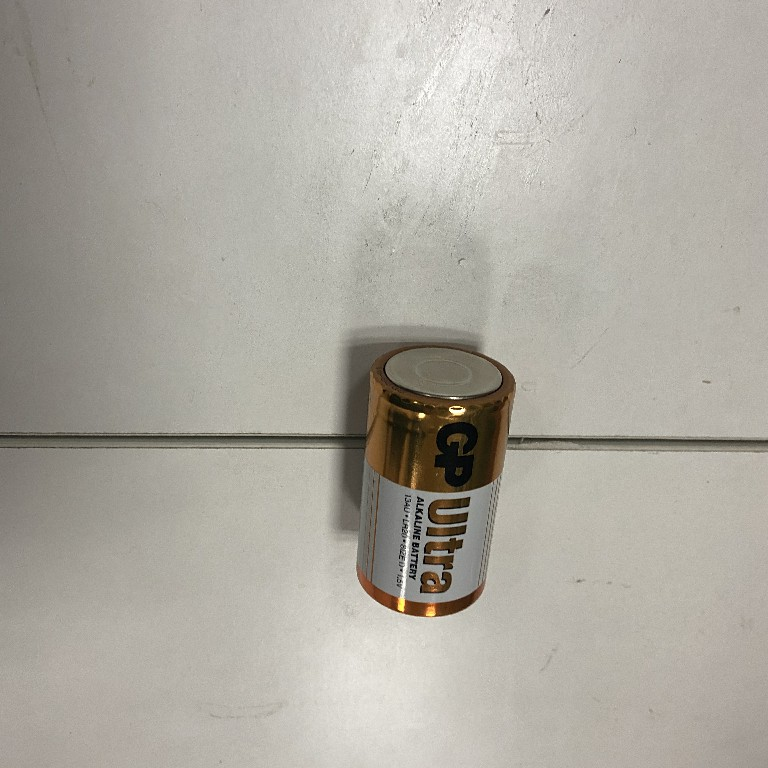charge: (355, 341, 519, 623)
